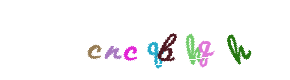B: (127, 0, 207, 80)
C: (77, 0, 157, 80), (115, 0, 195, 80)
H: (197, 0, 277, 80)
K: (133, 0, 213, 80)
Q: (118, 0, 198, 80), (159, 0, 239, 80)
R: (102, 0, 182, 80)
